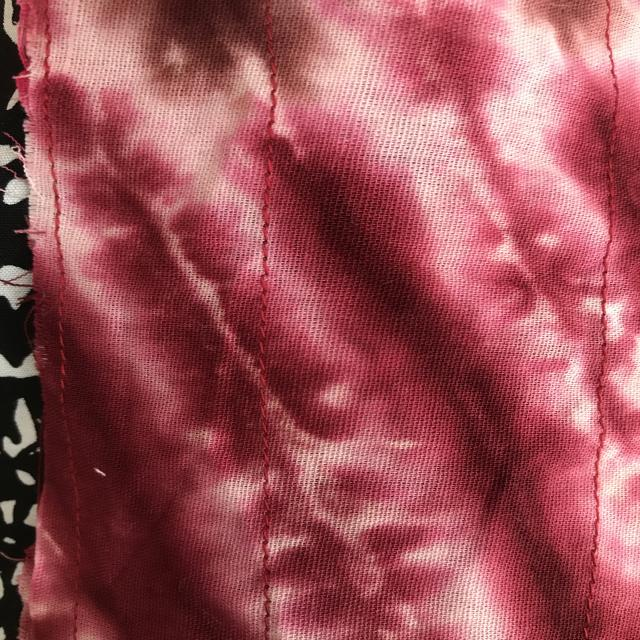good: (253, 189, 282, 284)
